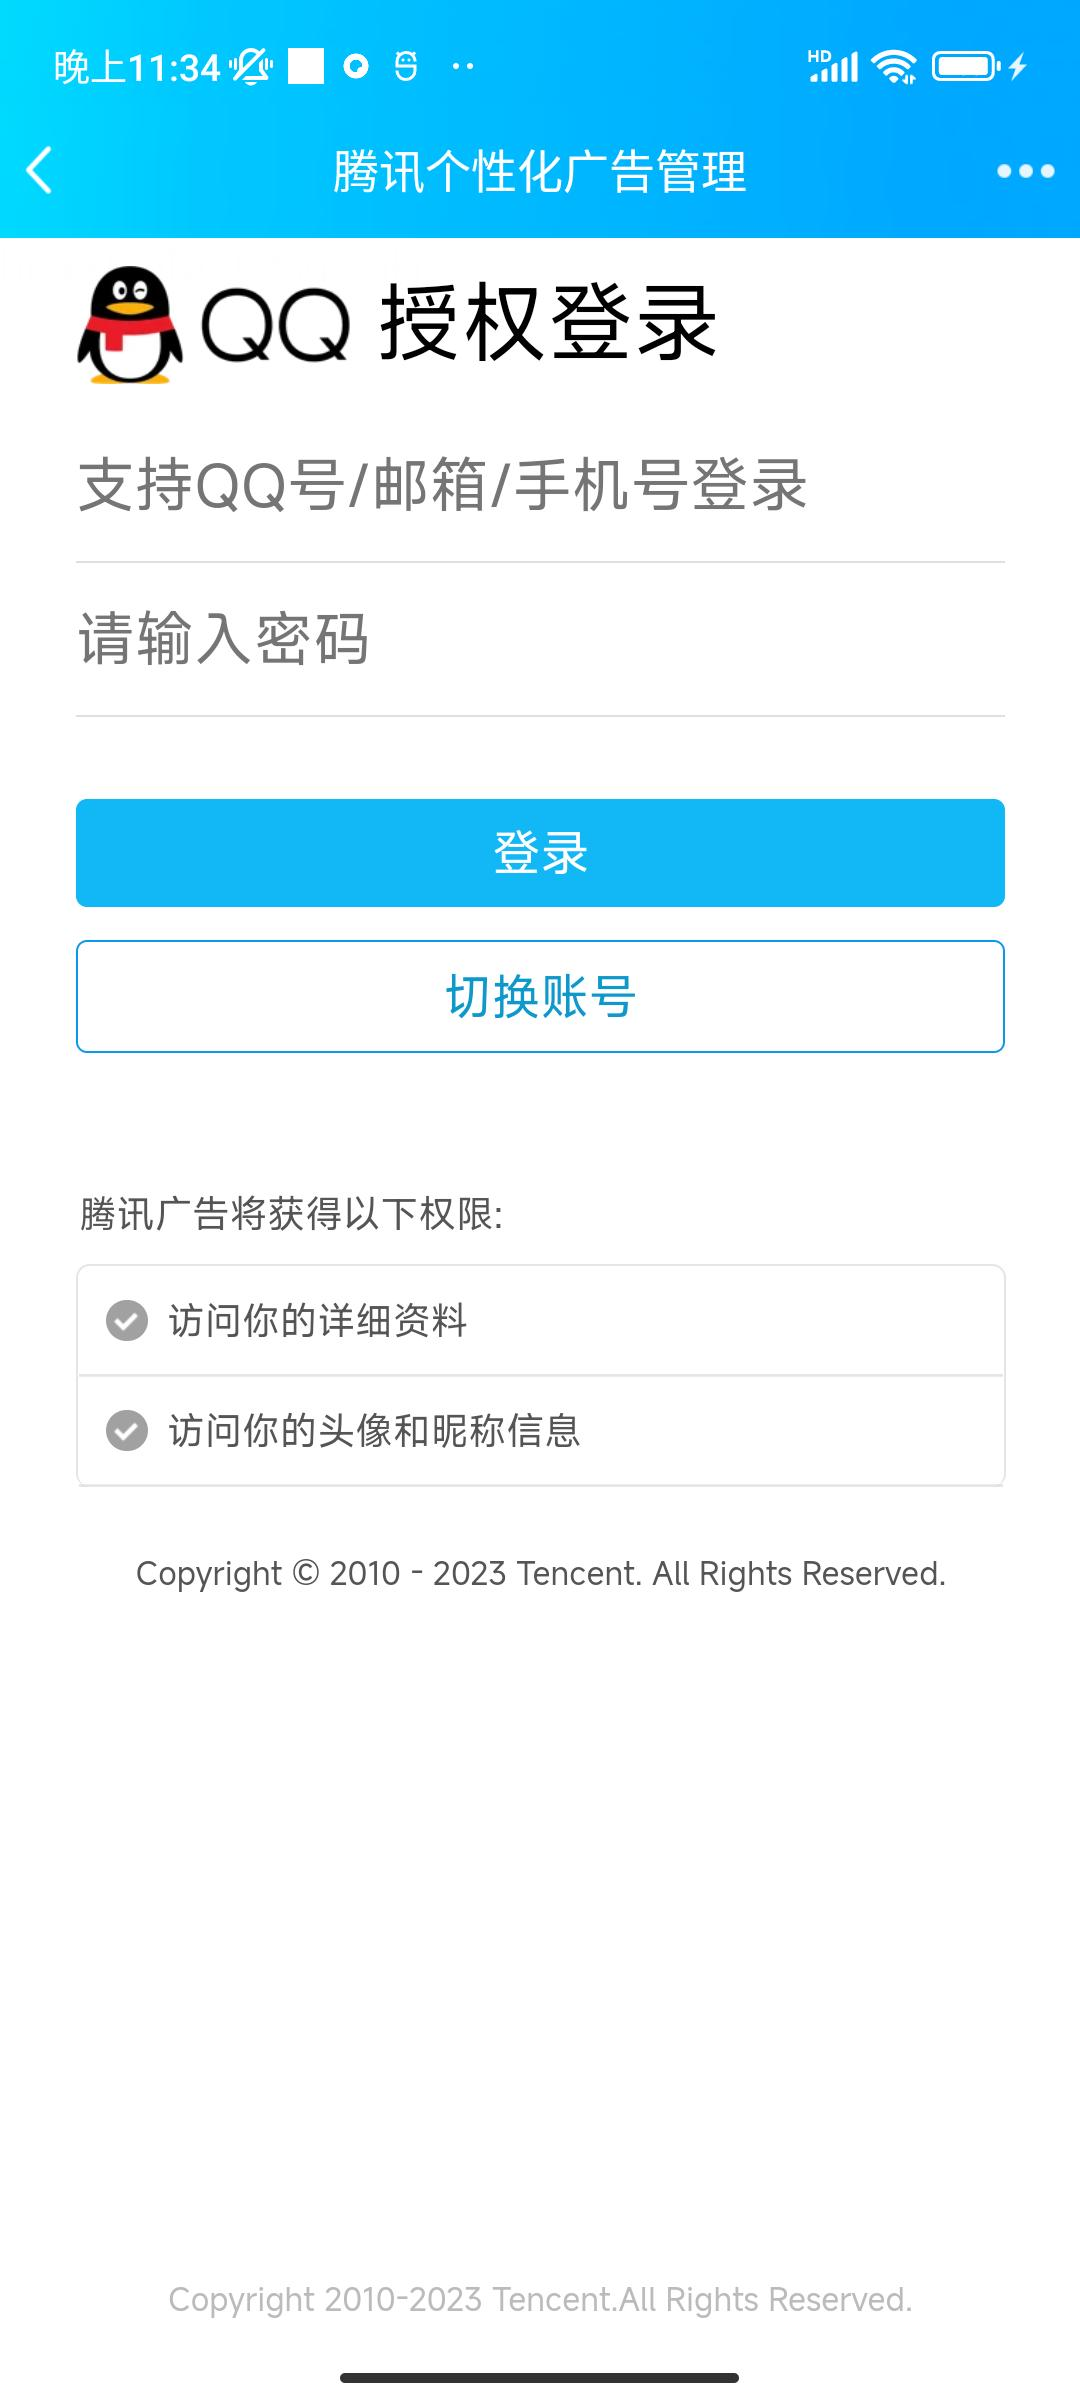ui_group: (49, 251, 1023, 1081)
